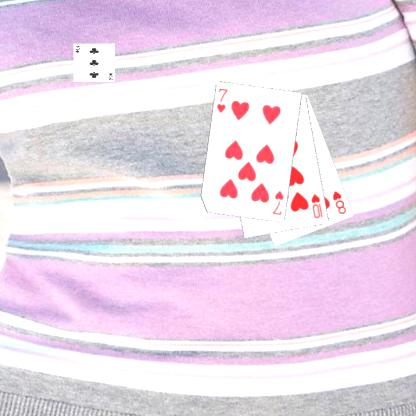10H: (309, 191, 324, 220)
7H: (214, 86, 230, 114), (270, 188, 285, 217)
8H: (330, 188, 347, 216)
